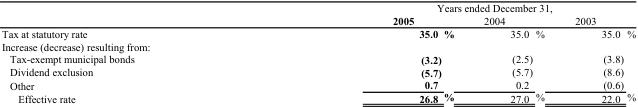table: (0, 1, 635, 104)
table column: (0, 1, 262, 104), (262, 1, 468, 104), (468, 1, 559, 104), (559, 1, 635, 104)
table column header: (0, 1, 635, 26)
table projected row header: (0, 39, 635, 52)
table row: (0, 90, 635, 104), (0, 13, 635, 26), (0, 26, 635, 39), (0, 39, 635, 52), (0, 52, 635, 65), (0, 65, 635, 78), (0, 1, 635, 13), (0, 78, 635, 90)
table spanning cell: (262, 1, 635, 13)
